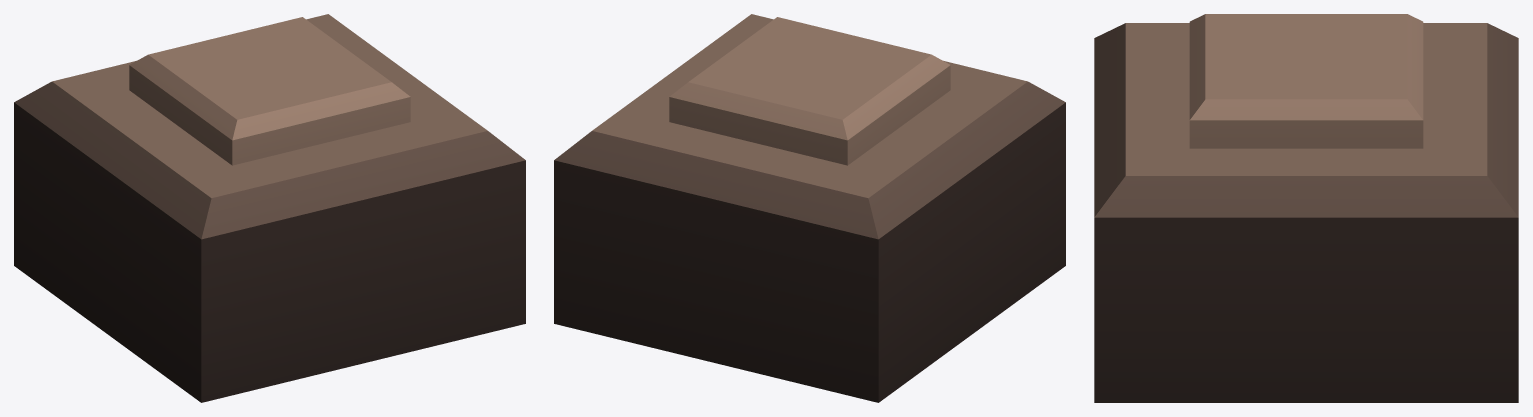
The model's file is assembling-machine-1.glb.
3 views of the same model, side by side, from view 1: azimuth 30°, elevation 25°; view 2: azimuth 150°, elevation 25°; view 3: azimuth 270°, elevation 25° (orthographic). The views are drawn at different scales.
Parts seen in each view (by area): view 1: assembling-machine-1; view 2: assembling-machine-1; view 3: assembling-machine-1.
Part boxes in pixels (<box>): assembling-machine-1: <box>14,14,525,402</box>; assembling-machine-1: <box>554,14,1065,402</box>; assembling-machine-1: <box>1094,14,1518,402</box>.
Size of the model in its own units: 0.27 by 0.18 by 0.27.
